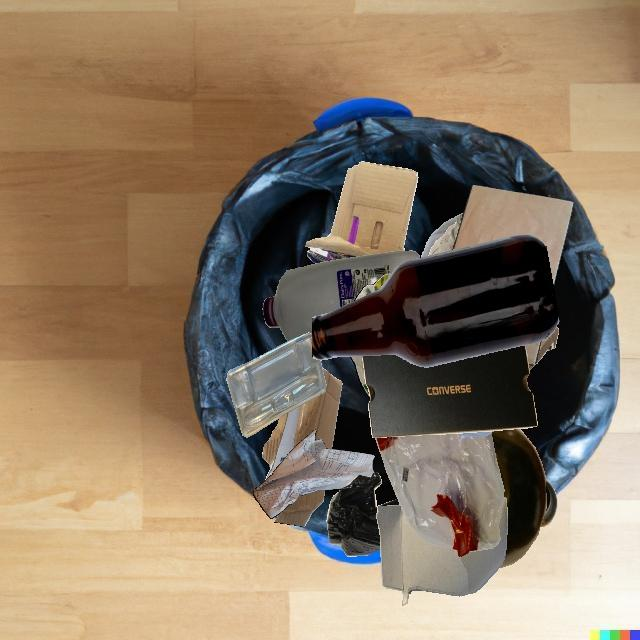cardboard: (363, 345, 538, 438), (376, 497, 508, 606), (305, 161, 418, 264), (262, 368, 342, 481), (274, 490, 325, 527), (529, 326, 559, 370)
glass: (312, 235, 559, 368), (491, 429, 546, 568), (428, 214, 463, 256), (540, 480, 557, 527)
paper: (452, 185, 573, 287), (253, 430, 375, 518), (354, 273, 391, 301), (350, 356, 370, 399)
plastic: (375, 433, 504, 557), (263, 251, 420, 341), (227, 332, 326, 438), (326, 472, 400, 556), (421, 213, 463, 258), (456, 430, 499, 437)
